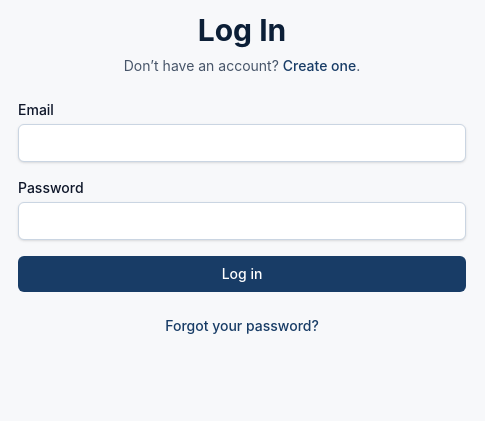
<LoginPage /> › shows a generic fallback error for non-ApiError throws
Type "jane@example.com" into the field labelled "Email" at (242, 143), box x1=18 y1=124 x2=466 y2=162
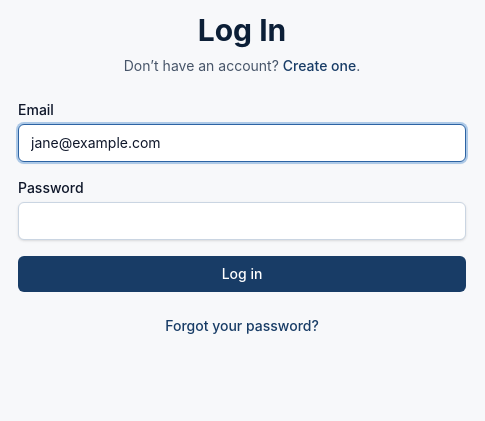
Type "pw" into the password field labelled "Password" at (242, 221), box x1=18 y1=202 x2=466 y2=240
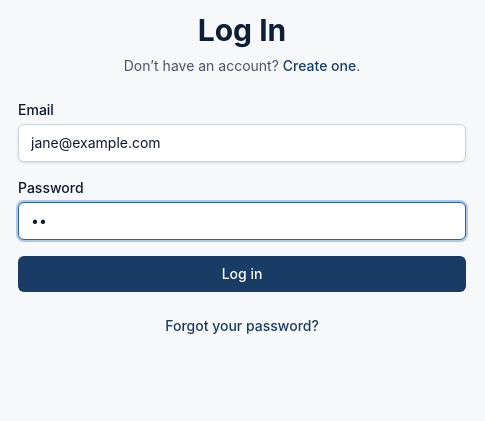
Click the button "Log in" at (242, 274), box x1=18 y1=256 x2=466 y2=292
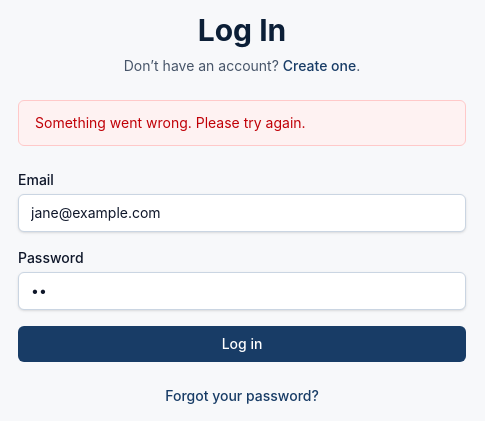
Expected: the message shows "Something went wrong", x1=35 y1=114 x2=306 y2=131
